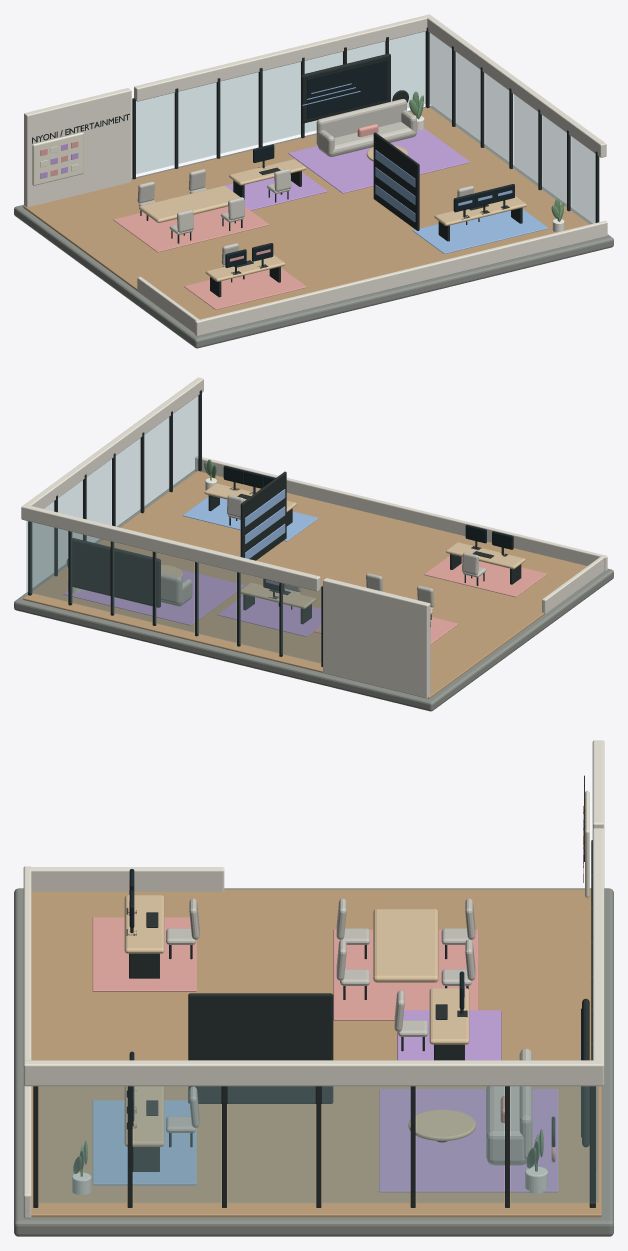
File: entertainment_floor.glb
3 renders of one model, top to bottom at view 1: azimuth 30°, elevation 25°; view 2: azimuth 150°, elevation 25°; view 3: azimuth 270°, elevation 25°, orthographic. The views are drawn at different scales.
Parts seen in each view (by area): view 1: ARCH_FINISH_FLOOR, ARCH_FLOOR_SLAB, ARCH_BACK_WALL, ARCH_FRONT_EDGE, ARCH_BACK_TOP, SCREENING_RUG, ARCH_RIGHT_TOP, SCREENING_WALL_SCREEN, WRITERS_RUG, WIN_BACK_GLASS_2, WIN_BACK_GLASS_1, RUG_MOTION (+23 smaller); view 2: ARCH_FINISH_FLOOR, ARCH_BACK_WALL, ARCH_FLOOR_SLAB, ARCH_BACK_TOP, ARCH_FRONT_EDGE, SCREENING_WALL_FRAME, ARCH_RIGHT_TOP, WIN_BACK_GLASS_0, WIN_BACK_GLASS_1, WIN_BACK_GLASS_2, WIN_BACK_GLASS_3, WIN_BACK_GLASS_6 (+19 smaller); view 3: ARCH_FINISH_FLOOR, ARCH_FLOOR_SLAB, ARCH_RIGHT_TOP, EDITING_DIVIDER, SCREENING_RUG, WIN_RIGHT_GLASS_0, WIN_RIGHT_GLASS_1, WIN_RIGHT_GLASS_2, WIN_RIGHT_GLASS_3, WIN_RIGHT_GLASS_4, WIN_RIGHT_GLASS_5, RUG_MOTION (+22 smaller).
Part boxes in pixels (x1=…): ARCH_FINISH_FLOOR: x1=23, y1=107, x2=589, y2=319; ARCH_FLOOR_SLAB: x1=14, y1=105, x2=613, y2=348; ARCH_BACK_WALL: x1=24, y1=88, x2=131, y2=207; ARCH_FRONT_EDGE: x1=195, y1=220, x2=607, y2=336; ARCH_BACK_TOP: x1=134, y1=14, x2=431, y2=101; SCREENING_RUG: x1=288, y1=128, x2=469, y2=193; ARCH_RIGHT_TOP: x1=427, y1=15, x2=606, y2=157; SCREENING_WALL_SCREEN: x1=307, y1=60, x2=387, y2=118; WRITERS_RUG: x1=113, y1=206, x2=269, y2=252; WIN_BACK_GLASS_2: x1=220, y1=72, x2=258, y2=153; WIN_BACK_GLASS_1: x1=178, y1=83, x2=216, y2=163; RUG_MOTION: x1=412, y1=209, x2=548, y2=253; ARCH_FINISH_FLOOR: x1=23, y1=471, x2=587, y2=698; ARCH_BACK_WALL: x1=323, y1=578, x2=430, y2=698; ARCH_FLOOR_SLAB: x1=14, y1=469, x2=613, y2=711; ARCH_BACK_TOP: x1=21, y1=505, x2=320, y2=591; ARCH_FRONT_EDGE: x1=195, y1=456, x2=607, y2=571; SCREENING_WALL_FRAME: x1=72, y1=538, x2=160, y2=607; ARCH_RIGHT_TOP: x1=22, y1=377, x2=203, y2=520; WIN_BACK_GLASS_0: x1=281, y1=583, x2=320, y2=663; WIN_BACK_GLASS_1: x1=239, y1=573, x2=278, y2=653; WIN_BACK_GLASS_2: x1=197, y1=562, x2=236, y2=642; WIN_BACK_GLASS_3: x1=155, y1=552, x2=194, y2=632; WIN_BACK_GLASS_6: x1=28, y1=521, x2=67, y2=601; ARCH_FINISH_FLOOR: x1=31, y1=889, x2=601, y2=1217; ARCH_FLOOR_SLAB: x1=14, y1=888, x2=613, y2=1236; ARCH_RIGHT_TOP: x1=23, y1=1060, x2=603, y2=1086; EDITING_DIVIDER: x1=188, y1=993, x2=333, y2=1103; SCREENING_RUG: x1=379, y1=1089, x2=558, y2=1192; WIN_RIGHT_GLASS_0: x1=39, y1=1086, x2=126, y2=1202; WIN_RIGHT_GLASS_1: x1=133, y1=1086, x2=220, y2=1202; WIN_RIGHT_GLASS_2: x1=228, y1=1086, x2=315, y2=1202; WIN_RIGHT_GLASS_3: x1=322, y1=1086, x2=409, y2=1202; WIN_RIGHT_GLASS_4: x1=416, y1=1086, x2=503, y2=1202; WIN_RIGHT_GLASS_5: x1=511, y1=1086, x2=598, y2=1202; RUG_MOTION: x1=92, y1=1100, x2=196, y2=1185.
Bounding box in the file's own units: 16.4 × 3.86 × 12.4.
